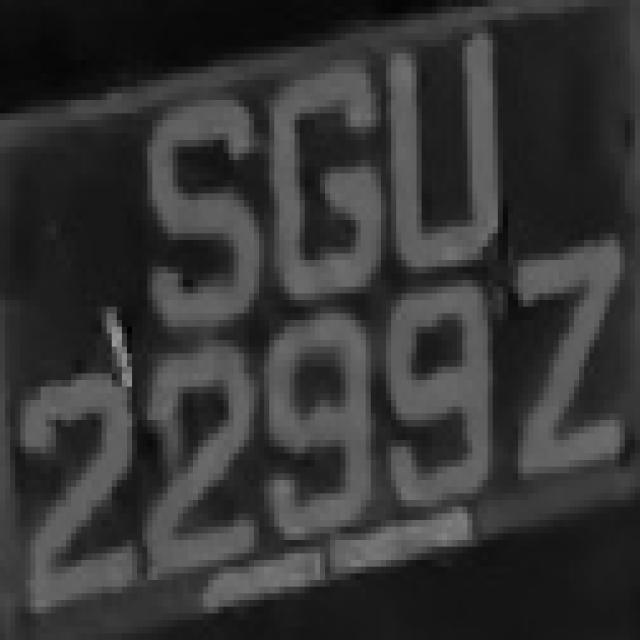2: (132, 334, 274, 594), (5, 366, 137, 626)
9: (360, 246, 492, 526), (259, 293, 376, 560)
G: (249, 60, 381, 293)
S: (122, 80, 259, 327)
U: (371, 27, 503, 293)
Z: (503, 247, 625, 493)
